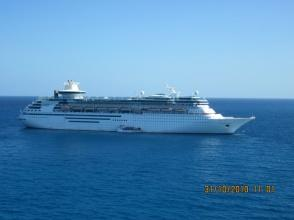youlun: (18, 78, 256, 132)
